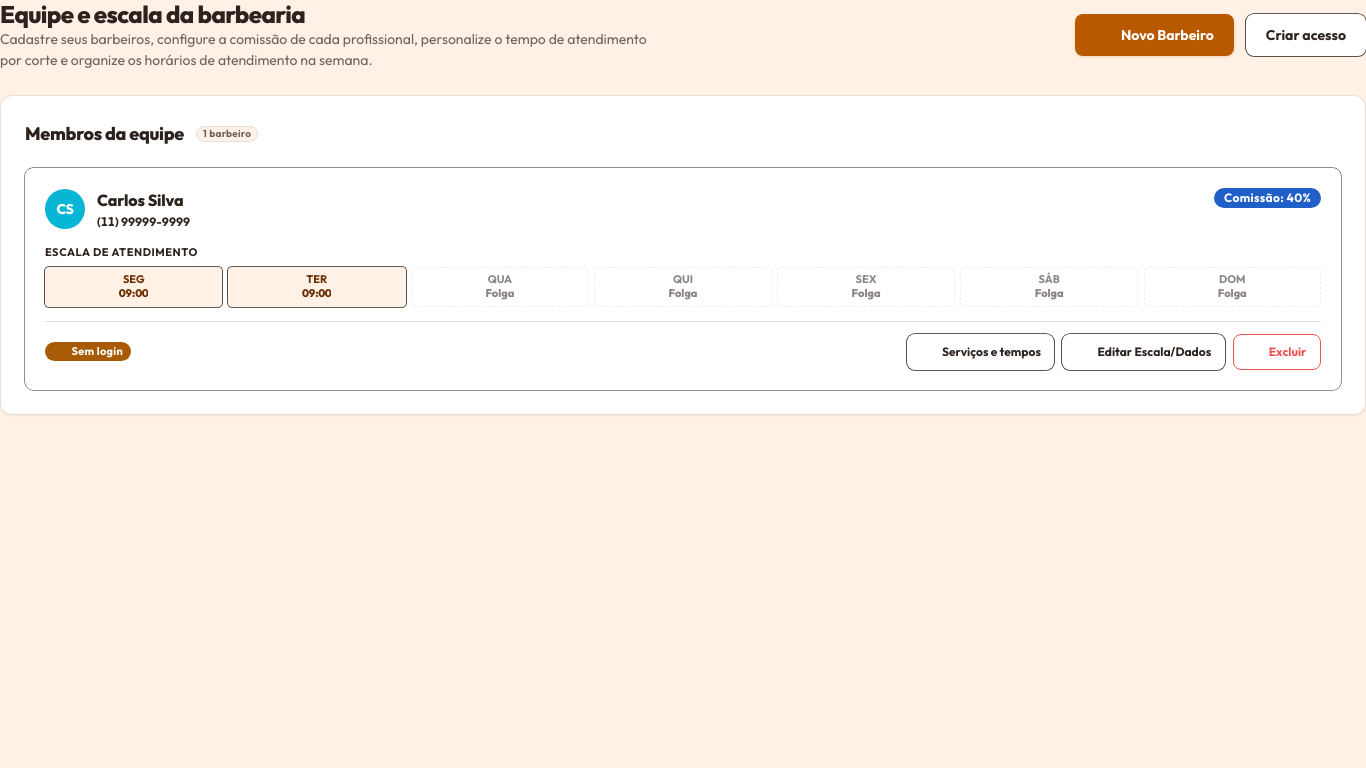
Aba de Profissionais (Profissionais.tsx) › deve iniciar cada dia ativo com o expediente configurado no tenant
Expected: the heading "Carlos Silva" is shown, [97, 188, 184, 212]
Click the button "Novo Barbeiro" at (1154, 35), box [1075, 14, 1234, 56]
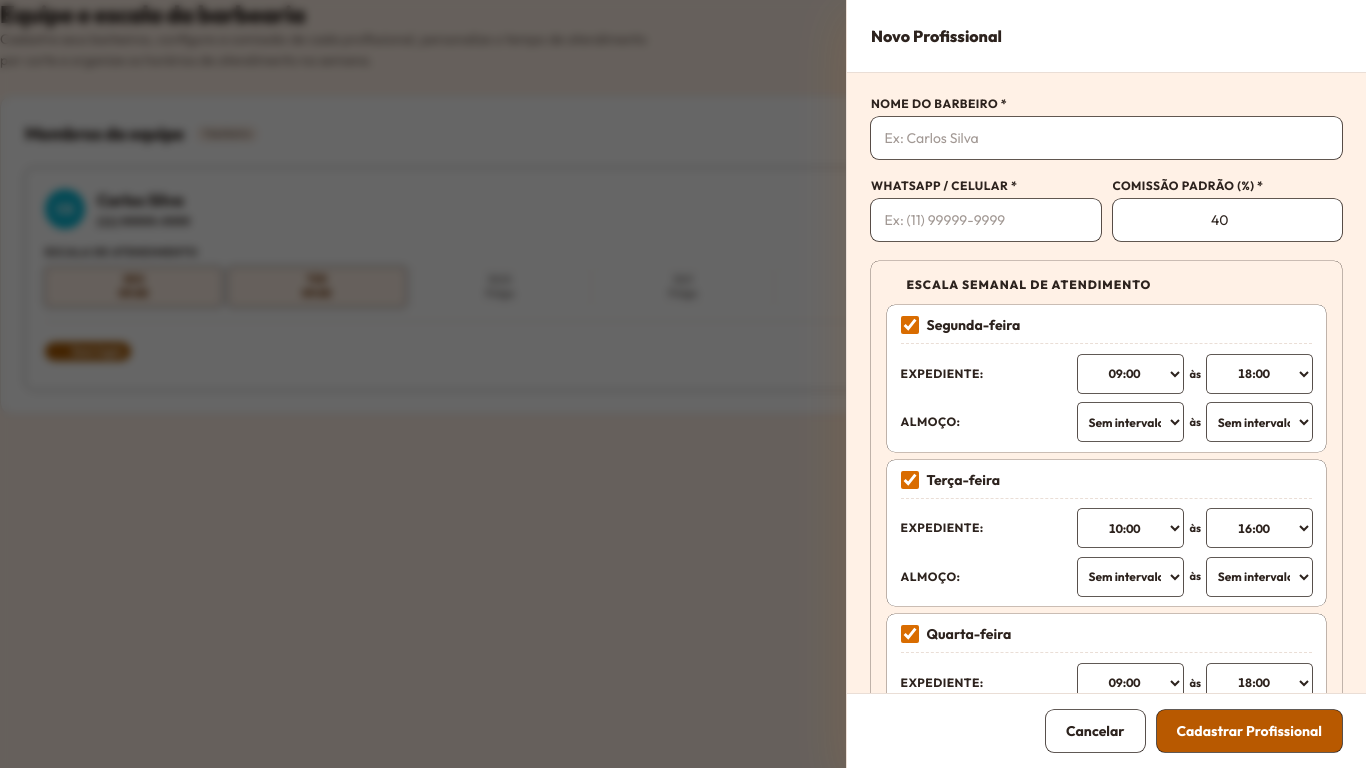
Expected: the dropdown named "Início do expediente de Terça-feira" shows "10:00", [1078, 509, 1183, 547]
Expected: the dropdown named "Fim do expediente de Terça-feira" shows "16:00", [1207, 509, 1312, 547]
